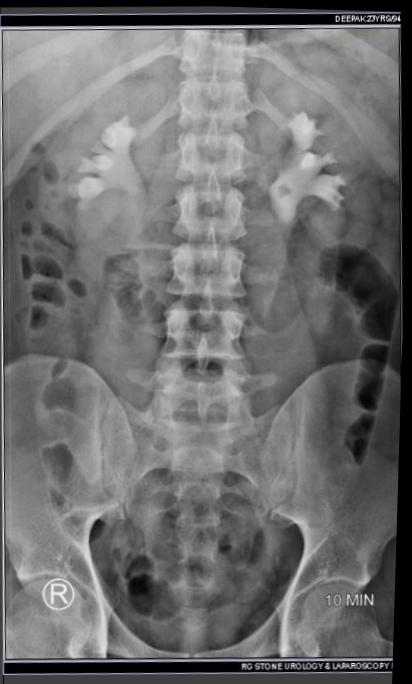left kidney: (245, 58, 391, 264)
right kidney: (7, 56, 169, 259)
vertebrae: (166, 121, 244, 183)
